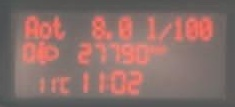-: (105, 30, 112, 39)
0: (109, 68, 126, 94), (116, 14, 133, 40), (197, 16, 214, 41), (133, 43, 149, 65), (184, 16, 198, 40), (21, 42, 36, 61)
1: (173, 14, 182, 41), (80, 69, 90, 93), (94, 70, 104, 93), (37, 74, 45, 92), (48, 75, 55, 94)
2: (126, 69, 142, 96), (75, 41, 93, 64)
7: (94, 41, 108, 62), (109, 42, 120, 63)
8: (89, 16, 104, 38)
9: (120, 42, 133, 65)
X: (51, 13, 65, 41), (24, 13, 38, 37), (144, 12, 155, 42), (156, 22, 171, 41), (38, 19, 51, 39), (59, 75, 70, 94), (157, 44, 166, 54), (150, 44, 157, 54)
